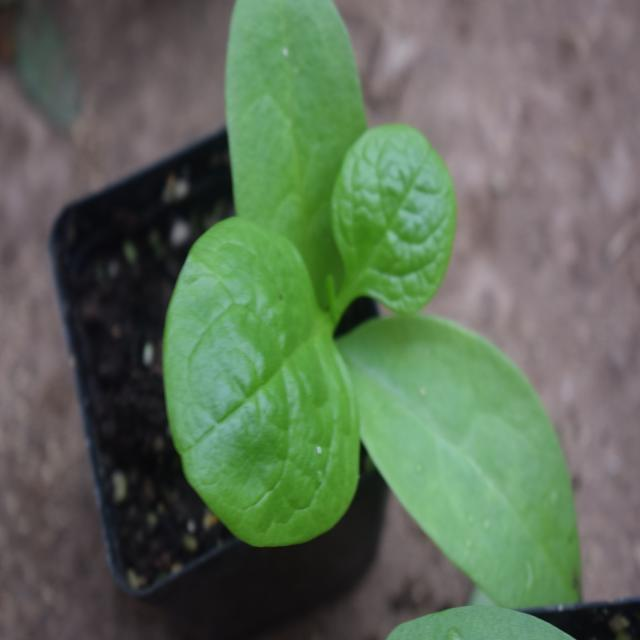Ceylon spinach: (169, 5, 557, 596)
